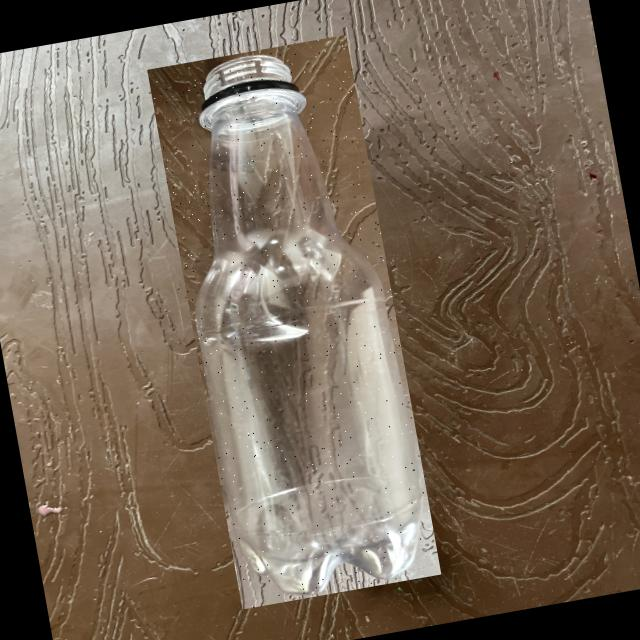PET_With_Cap: (146, 33, 440, 608)
